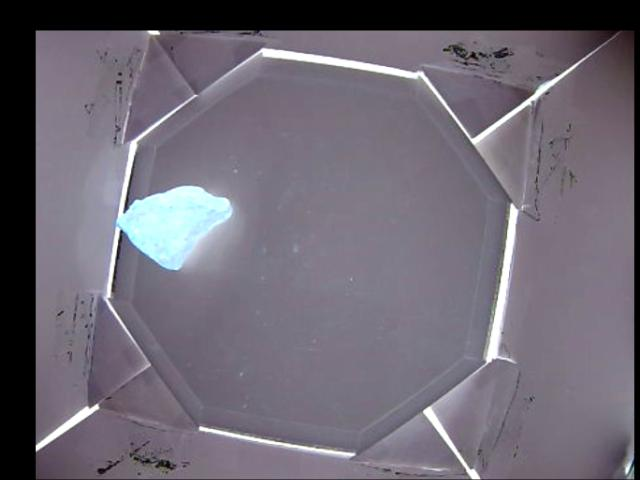Brisk: (116, 183, 230, 269)
